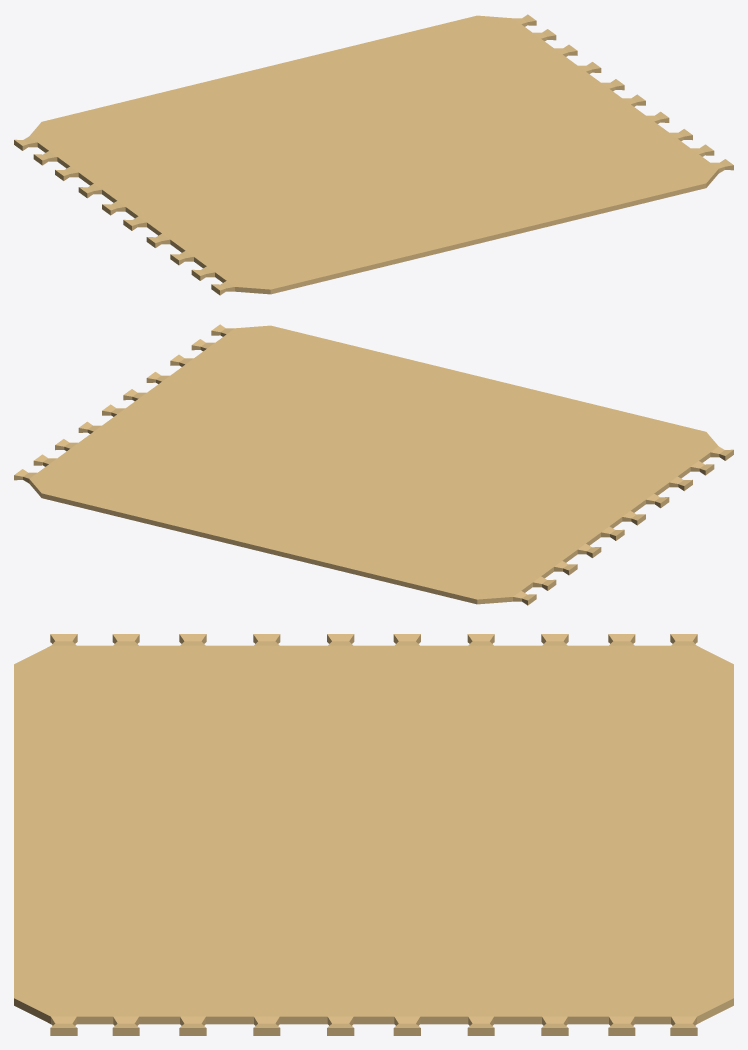
The model's file is CarpetD.fbx.
The picture shows the model from 3 angles, top to bottom: view 1: azimuth 30°, elevation 25°; view 2: azimuth 150°, elevation 25°; view 3: azimuth 270°, elevation 25°; orthographic projection. The views are drawn at different scales.
Visible parts, largest first — view 1: CarpetB.001; view 2: CarpetB.001; view 3: CarpetB.001.
Boxes of the visible parts, x1=… form: CarpetB.001: x1=14, y1=14, x2=733, y2=295; CarpetB.001: x1=14, y1=324, x2=733, y2=605; CarpetB.001: x1=14, y1=634, x2=733, y2=1035.
Size of the model in its own units: 1137 by 10.73 by 878.
